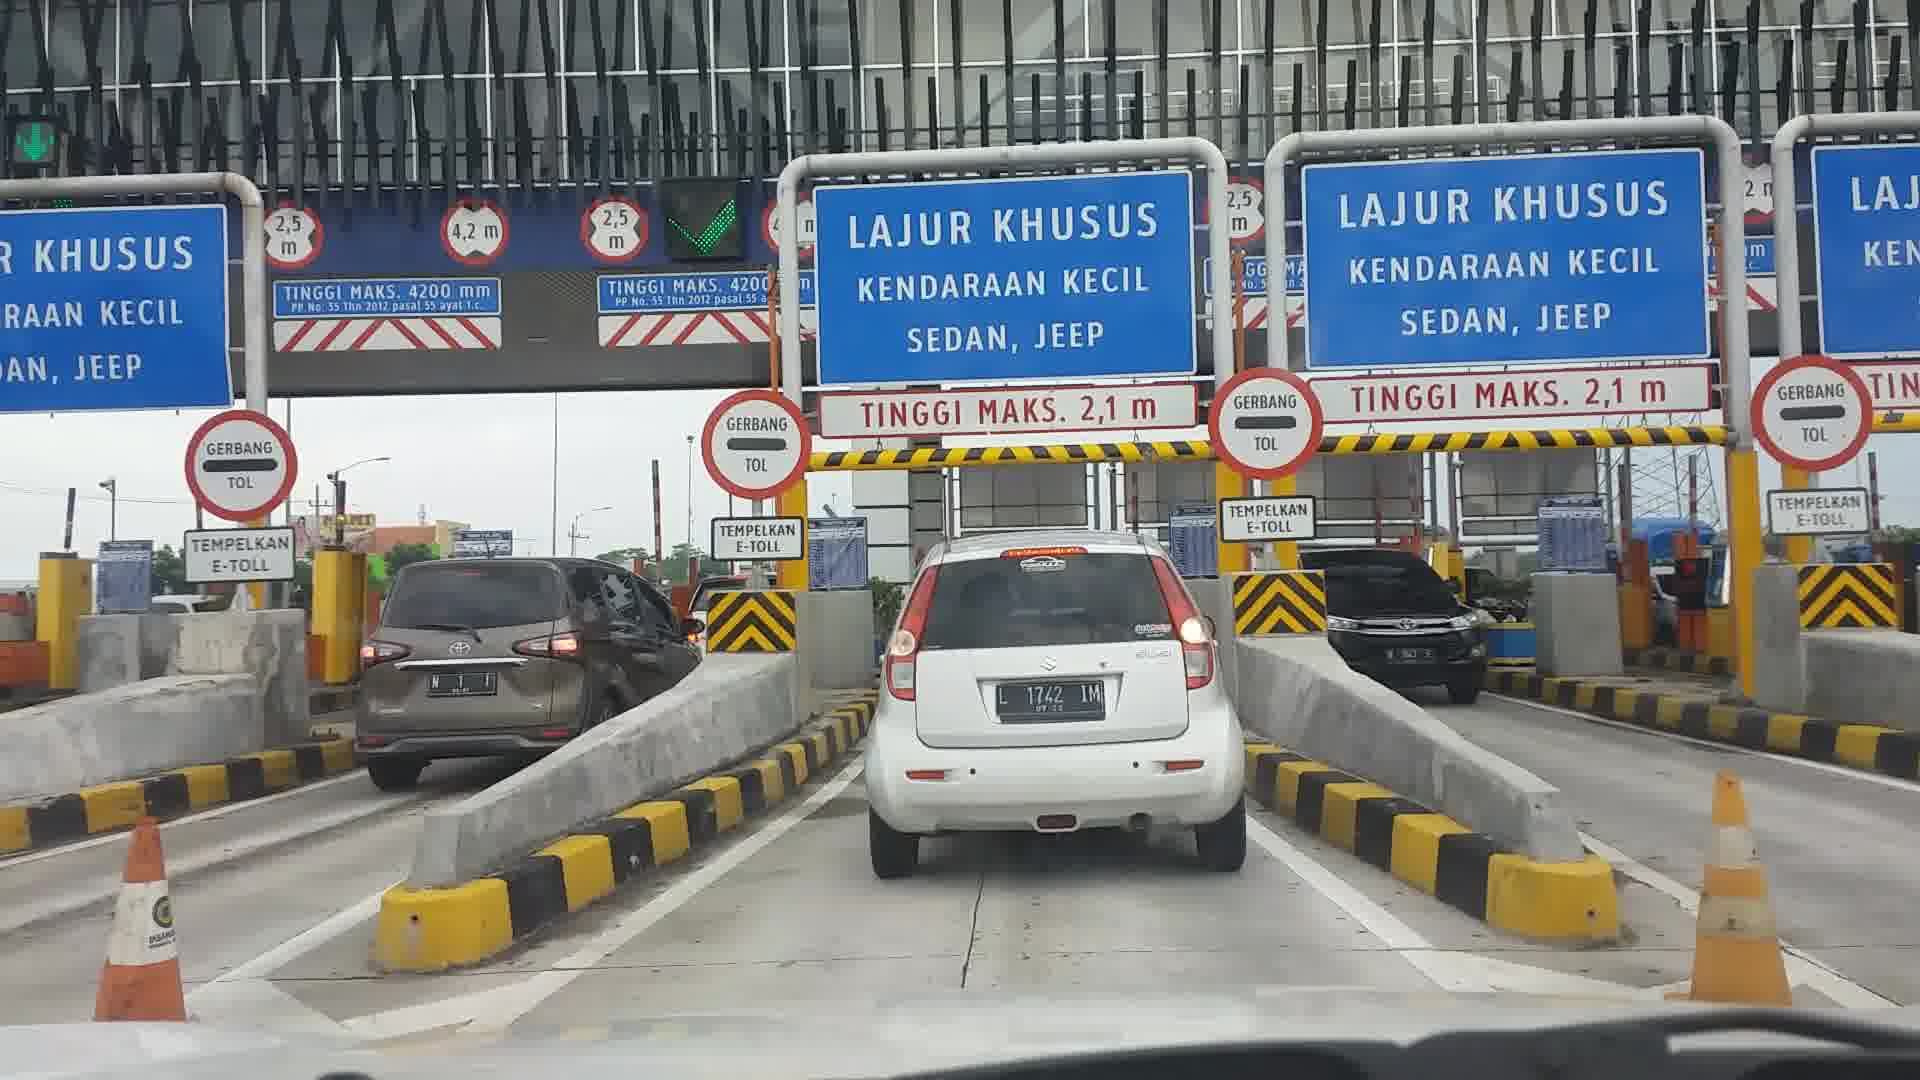plate_positive: (996, 680, 1102, 721), (429, 673, 497, 698)
